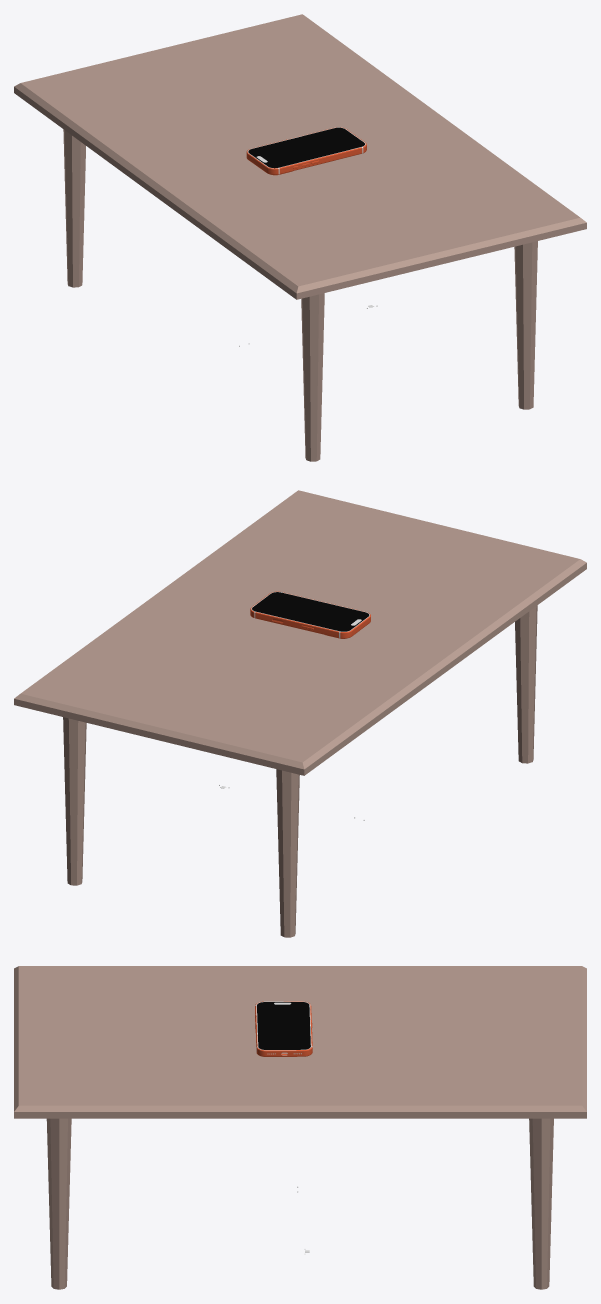
Rendered from ispg_phone.gltf.
3 renders of one model, top to bottom at view 1: azimuth 30°, elevation 25°; view 2: azimuth 150°, elevation 25°; view 3: azimuth 270°, elevation 25°, orthographic.
Visible parts, largest first — view 1: Table_Large_Rectangular_01_Circle.004, mobile; view 2: Table_Large_Rectangular_01_Circle.004, mobile; view 3: Table_Large_Rectangular_01_Circle.004, mobile.
Part boxes in pixels (x1,y1,x2,y2): Table_Large_Rectangular_01_Circle.004: (14,14,586,461); mobile: (239,127,377,346); Table_Large_Rectangular_01_Circle.004: (14,490,586,937); mobile: (219,591,370,820); Table_Large_Rectangular_01_Circle.004: (14,966,586,1289); mobile: (255,1001,312,1253).
Bounding box in the file's own units: 11.74 × 7.89 × 19.8.
